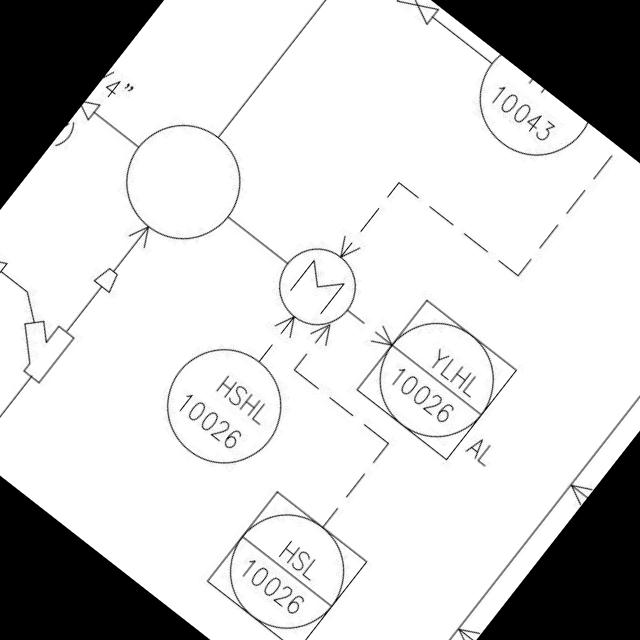GV: (390, 0, 443, 29), (0, 232, 17, 286)
M: (262, 232, 374, 342)
SP: (89, 262, 124, 297)
